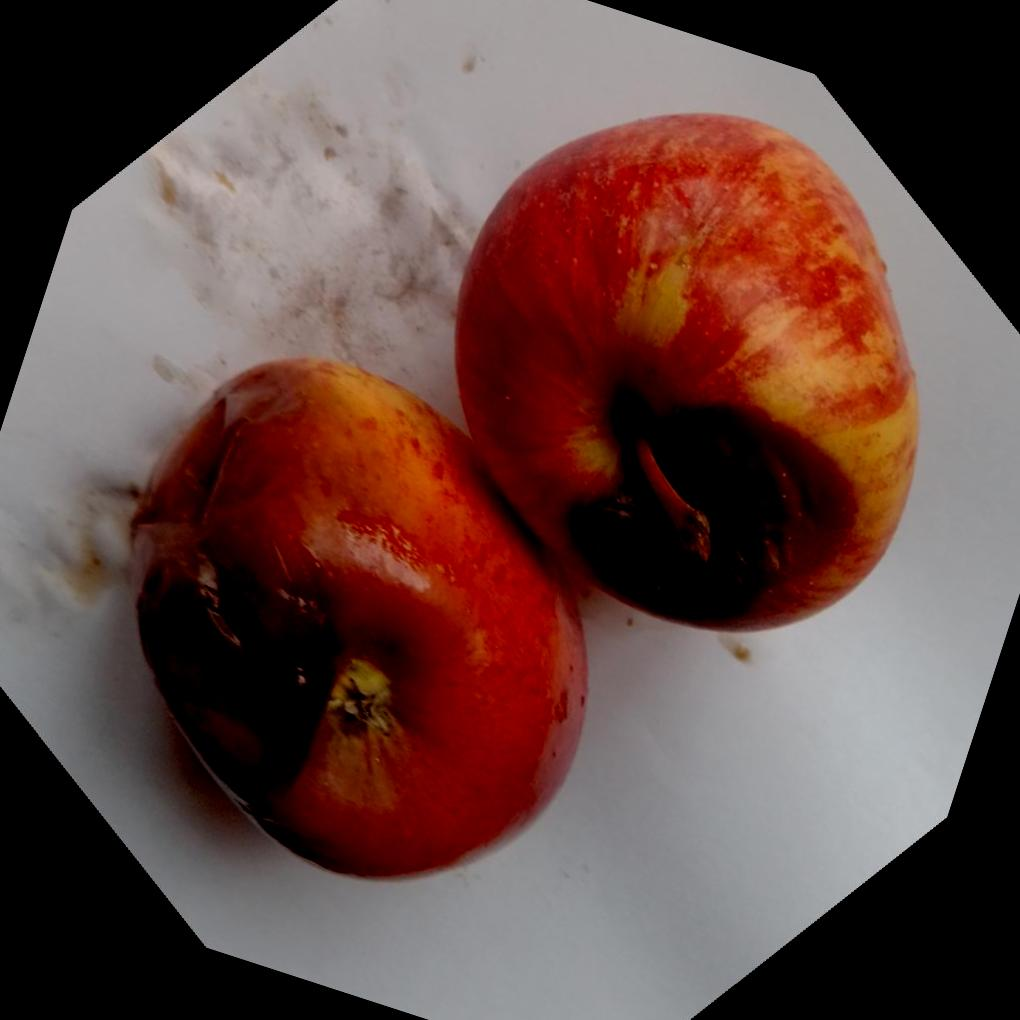FreshOrange: (128, 109, 924, 883)
